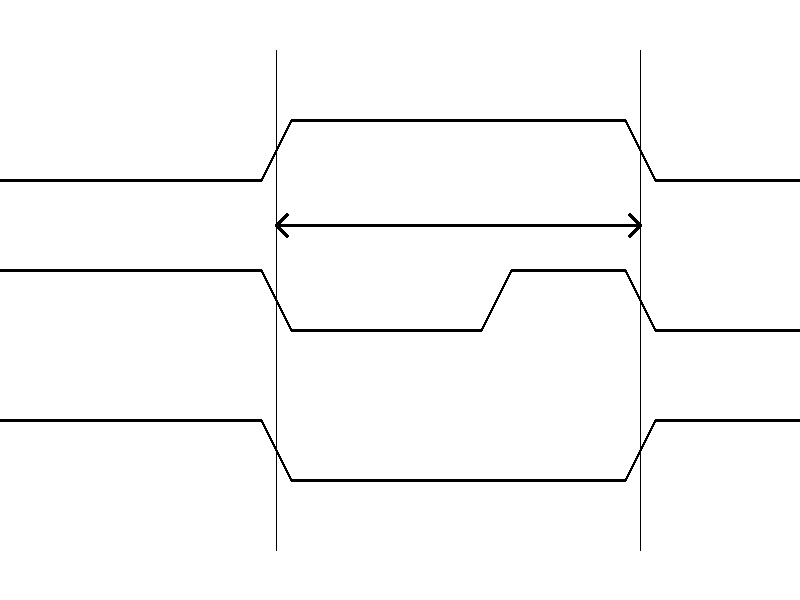double_arrow: (276, 210, 640, 240)
